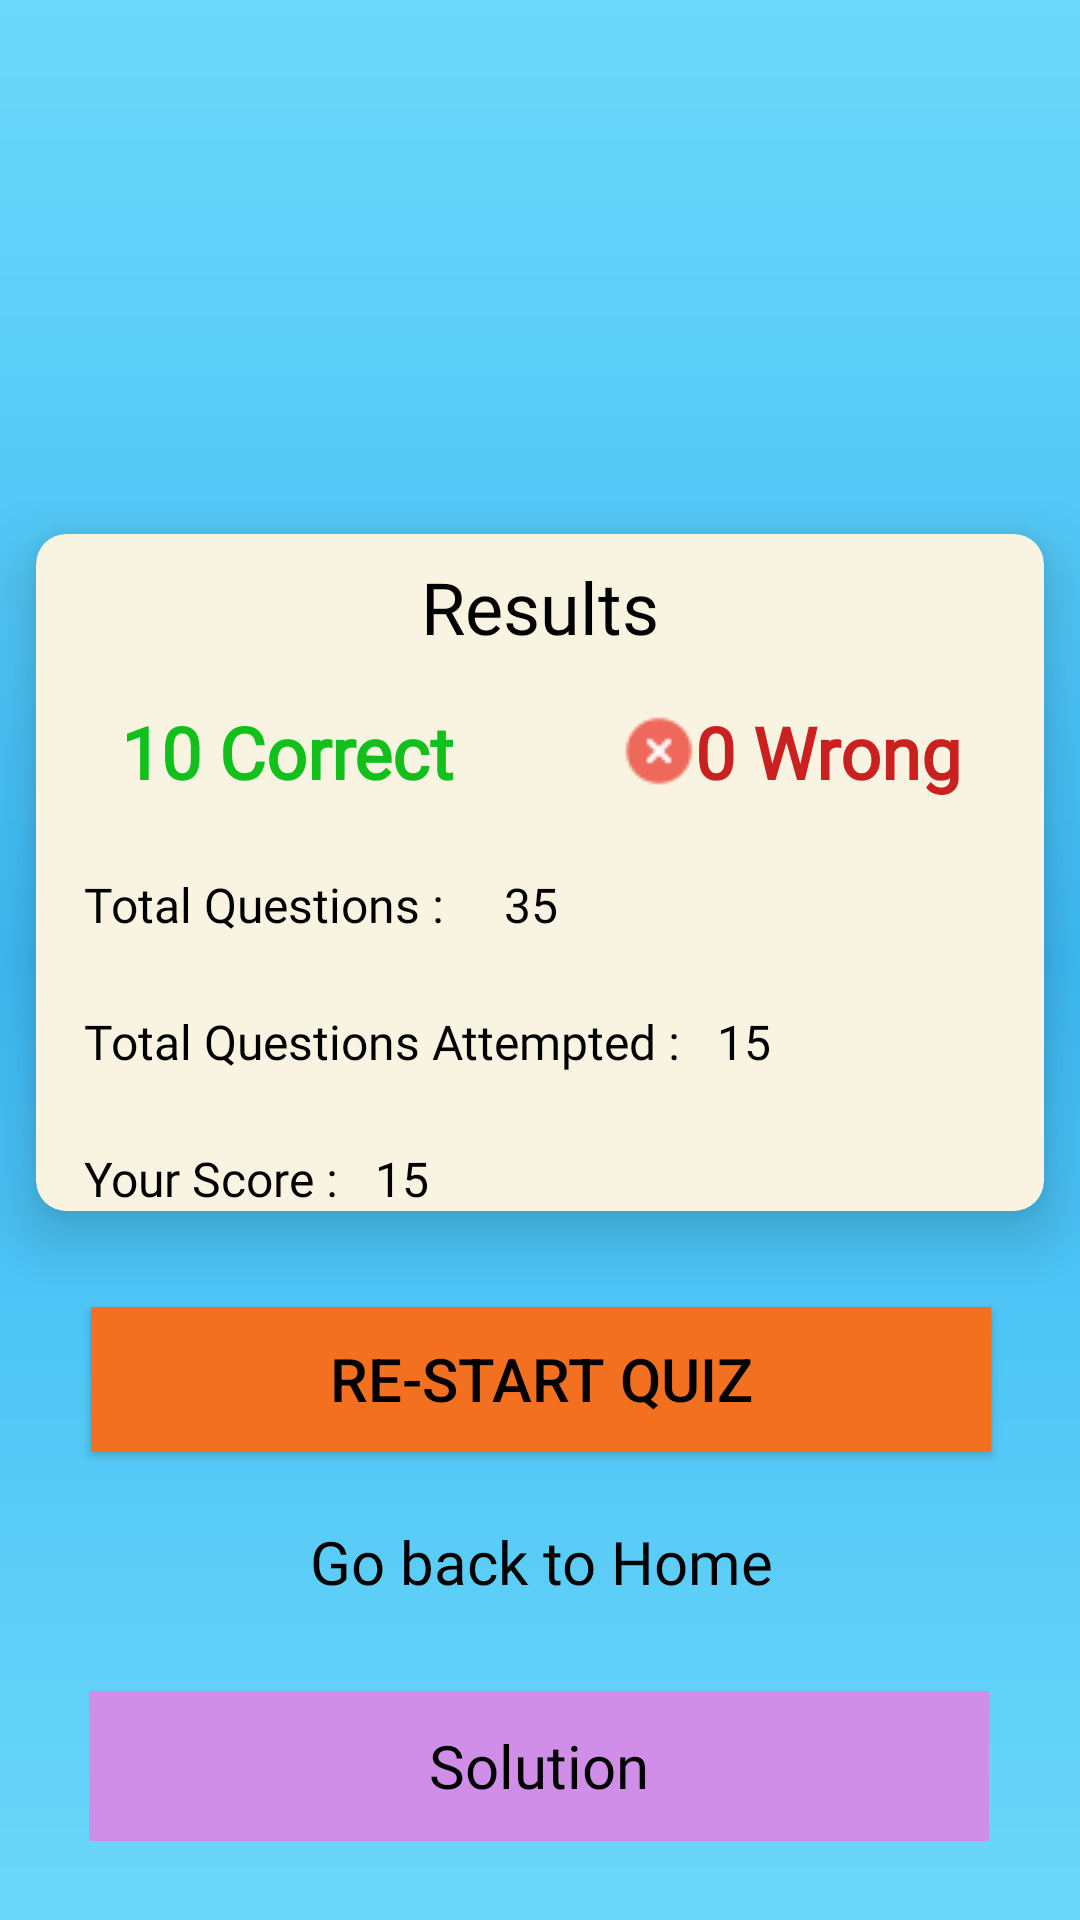

Where to tap for icons on this 1080 × 1920 app screen, as [x,y]:
incorrect: [659,751]
